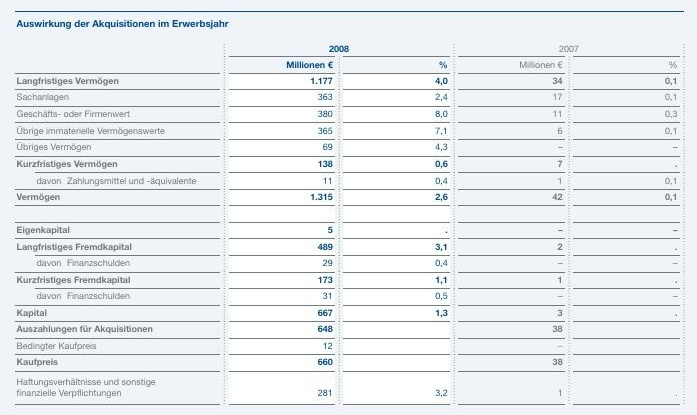table: (0, 0, 697, 415)
